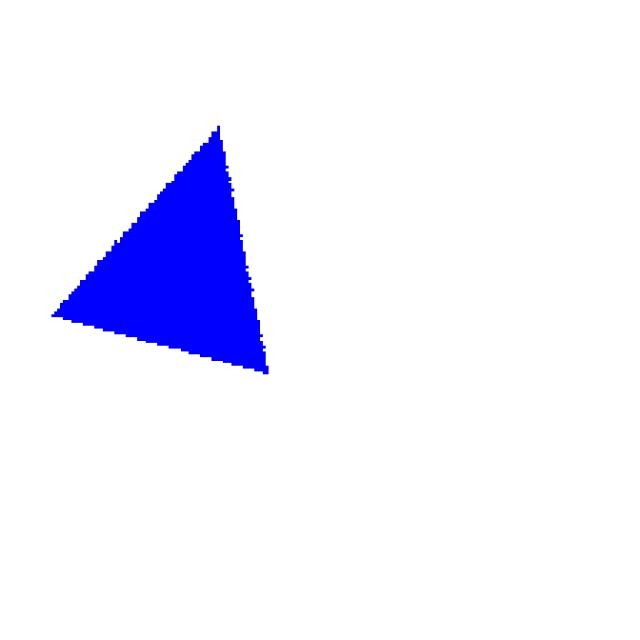Triangle: (39, 100, 334, 403)
